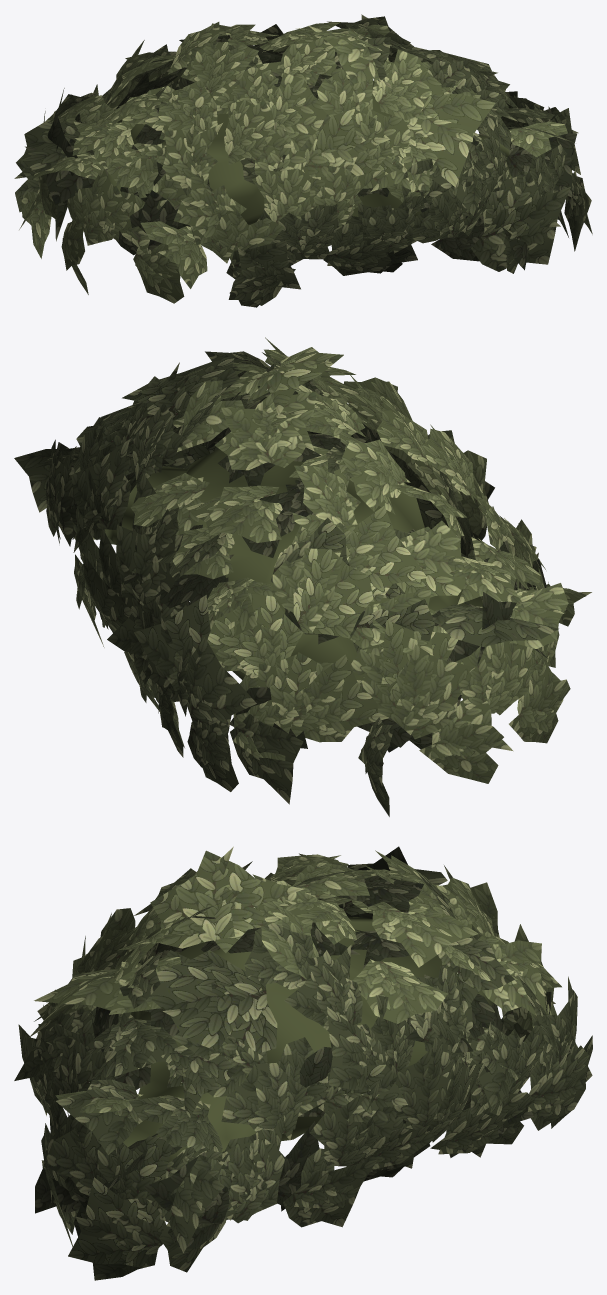
File: bush_mound.glb
The picture shows the model from 3 angles, top to bottom: view 1: azimuth 30°, elevation 25°; view 2: azimuth 150°, elevation 25°; view 3: azimuth 270°, elevation 25°; orthographic projection. The views are drawn at different scales.
Parts seen in each view (by area): view 1: bush_mound_lod0; view 2: bush_mound_lod0; view 3: bush_mound_lod0.
Boxes of the visible parts, left/top/right/bottom form: bush_mound_lod0: left=14, top=14, right=592, bottom=307; bush_mound_lod0: left=14, top=337, right=591, bottom=816; bush_mound_lod0: left=14, top=846, right=592, bottom=1280.
Bounding box in the file's own units: 1.77 × 0.8346 × 1.44.
1 material, 1 textured.
